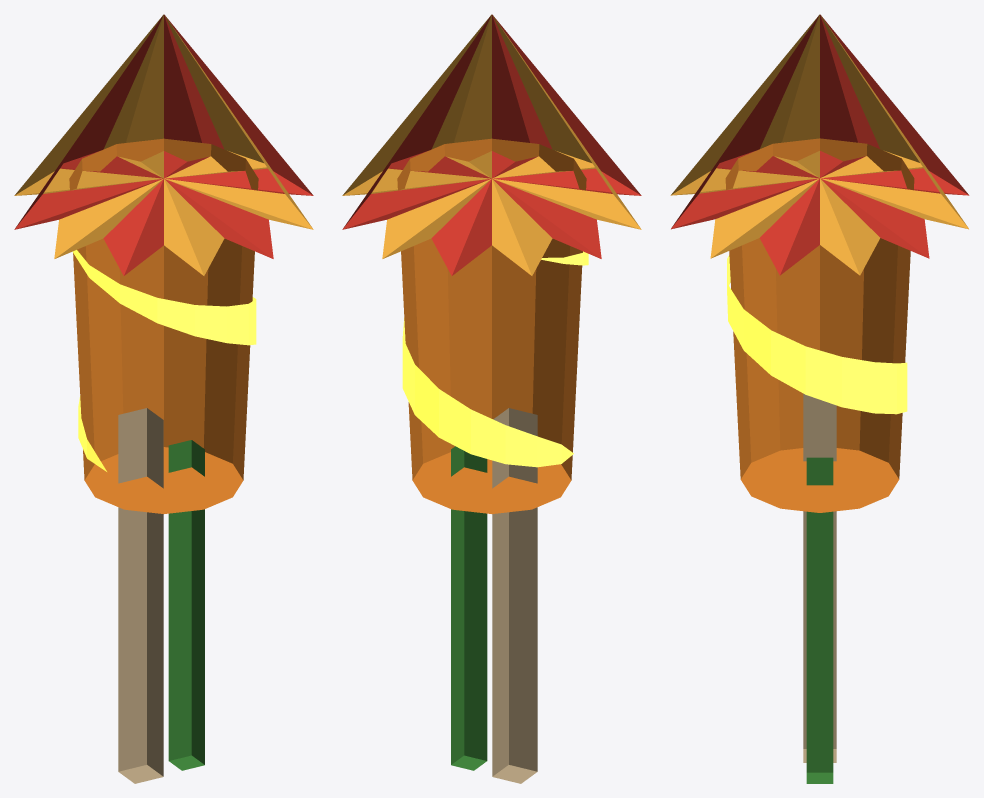
Rendered from rocket.glb.
3 renders of one model, left to right at view 1: azimuth 30°, elevation 25°; view 2: azimuth 150°, elevation 25°; view 3: azimuth 270°, elevation 25°, orthographic.
Parts seen in each view (by area): view 1: body, fan_a, fan_b, stick, fuse, emblem; view 2: body, fan_a, fan_b, stick, fuse, emblem; view 3: body, fan_a, fan_b, emblem, fuse, stick.
Part boxes in pixels (x1,y1,x2,y2): body: (69,138,258,513); fan_a: (14,14,313,275); fan_b: (14,14,313,275); stick: (118,408,163,783); fuse: (168,440,204,770); emblem: (72,250,256,471); body: (397,138,586,513); fan_a: (342,14,641,275); fan_b: (342,14,641,275); stick: (492,408,537,783); fuse: (451,446,487,770); emblem: (402,251,588,467); body: (725,138,914,512); fan_a: (671,14,969,275); fan_b: (670,14,968,275); emblem: (727,255,907,414); fuse: (806,457,833,783); stick: (803,393,836,762).
Bounding box in the file's own units: 0.396 × 1.1 × 0.396.
